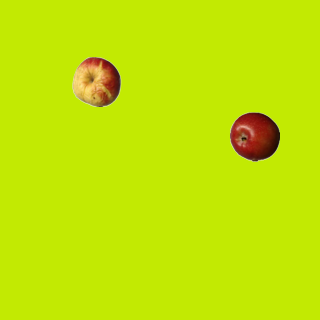Apple Braeburn: (229, 111, 279, 161)
Apple Red Yellow 1: (71, 56, 121, 106)
